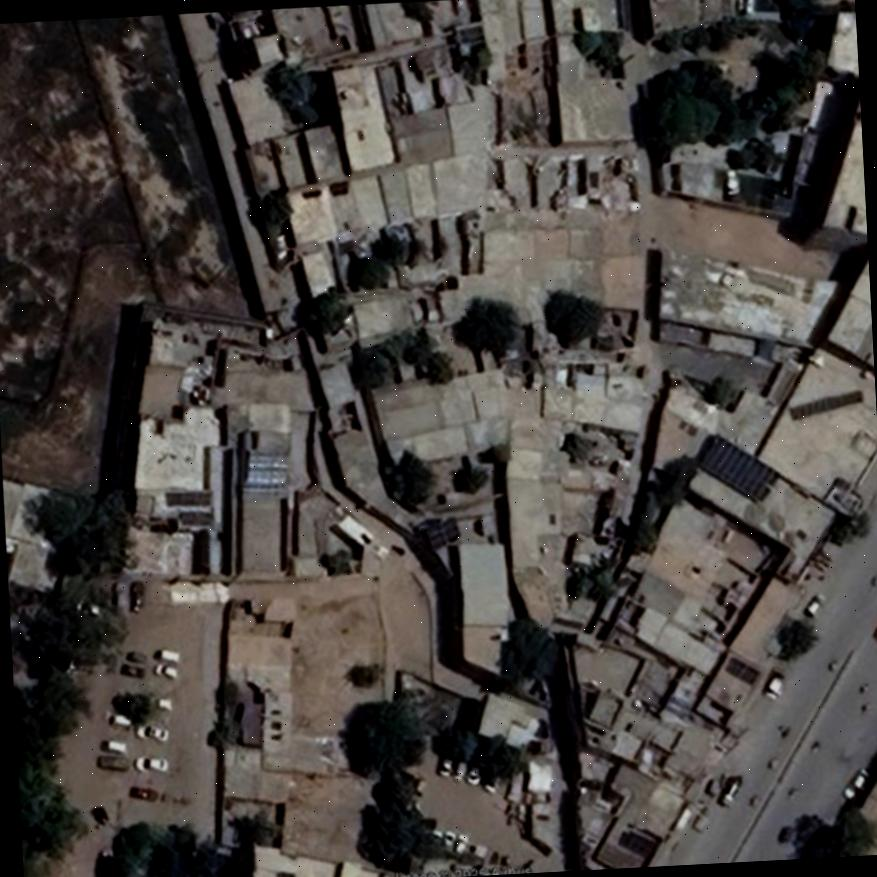Solarpanel: (696, 433, 777, 499), (722, 654, 760, 684), (622, 830, 662, 857), (162, 490, 210, 505)
